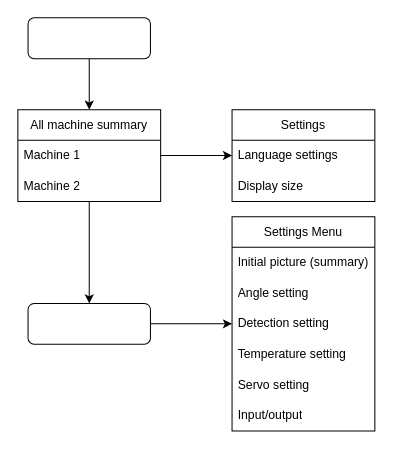
Some shapes in this 393 by 449 pixel diagram are drawn without their labels. Each missing label, with the centre of its shape:
"Login Page" belongs at point 88,38.
"Running Menu" belongs at point 88,323.
